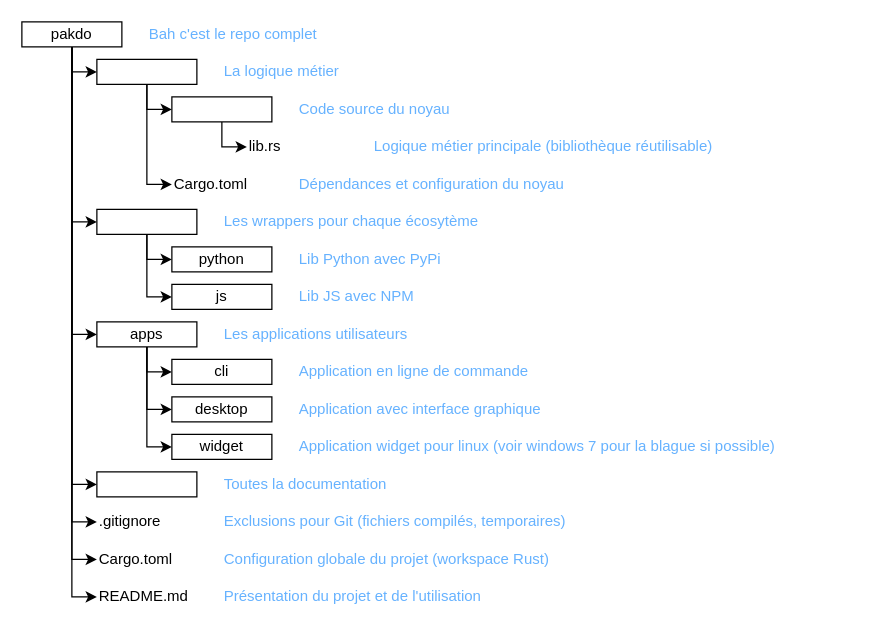
Image size: 894x631. Some labels were removed from this diagram. Each missing label, with the centre of its shape:
bindings: point (146, 221)
core: point (146, 71)
docs: point (146, 484)
src: point (221, 109)
